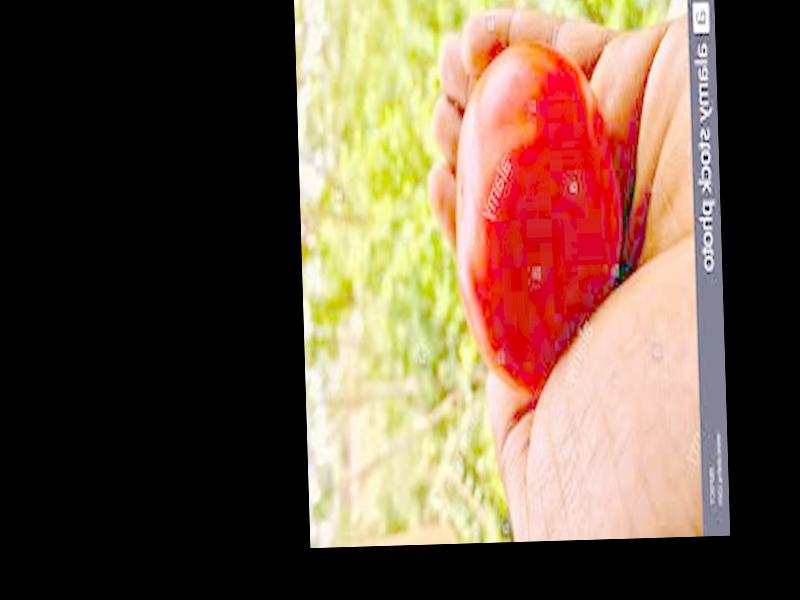Tomato: (452, 41, 625, 391)
